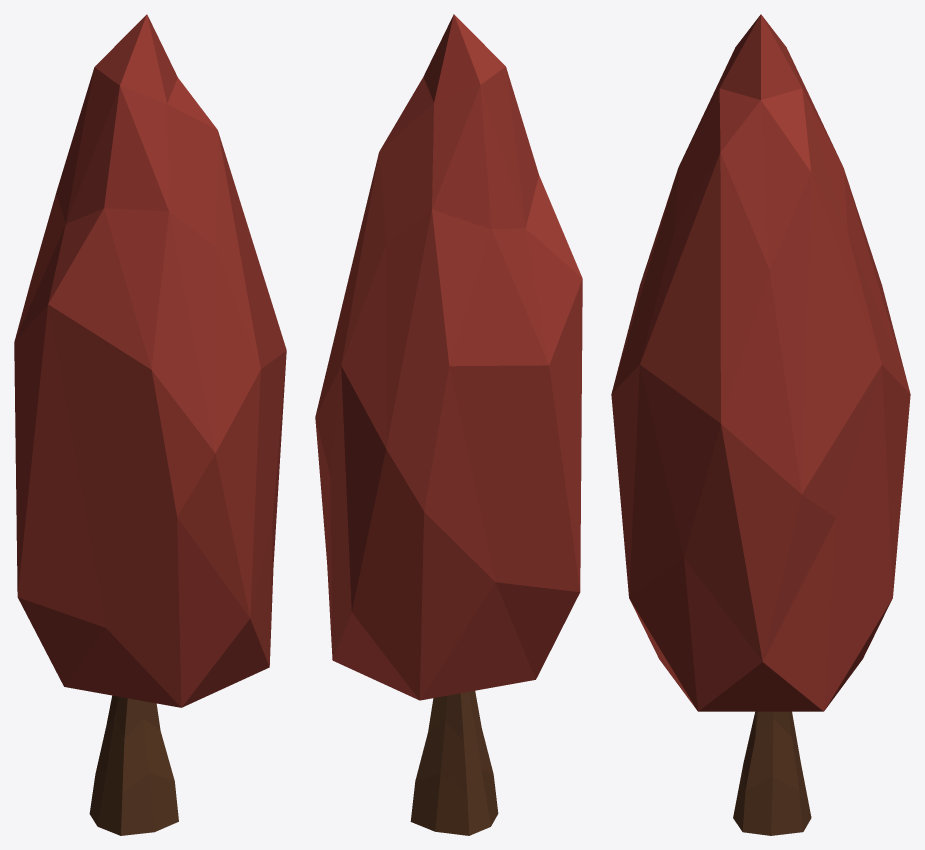
The model's file is Tree_46_Red.fbx.
3 renders of one model, left to right at view 1: azimuth 30°, elevation 25°; view 2: azimuth 150°, elevation 25°; view 3: azimuth 270°, elevation 25°, orthographic.
Parts seen in each view (by area): view 1: Tree_46_Red_Part_1, Tree_46_Red_Part_2; view 2: Tree_46_Red_Part_1, Tree_46_Red_Part_2; view 3: Tree_46_Red_Part_1, Tree_46_Red_Part_2.
Part boxes in pixels (x1,y1,x2,y2): Tree_46_Red_Part_1: (14, 14, 286, 707); Tree_46_Red_Part_2: (89, 695, 178, 835); Tree_46_Red_Part_1: (315, 14, 582, 700); Tree_46_Red_Part_2: (410, 690, 498, 835); Tree_46_Red_Part_1: (611, 14, 910, 711); Tree_46_Red_Part_2: (733, 711, 811, 835).
Size of the model in its own units: 265 by 797 by 268.
